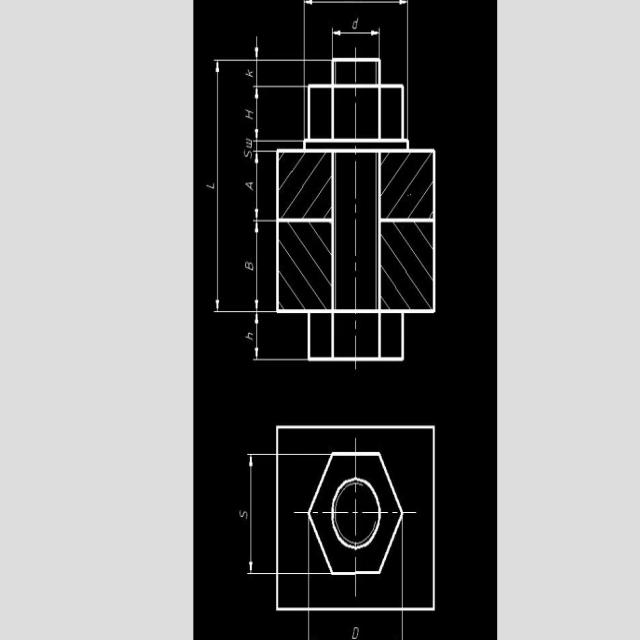marking_line: (213, 59, 254, 313), (303, 0, 412, 58), (243, 453, 275, 577), (248, 84, 303, 143), (252, 36, 307, 91), (251, 314, 308, 363), (250, 218, 275, 314), (250, 148, 276, 223), (331, 28, 381, 57), (250, 309, 275, 362)
